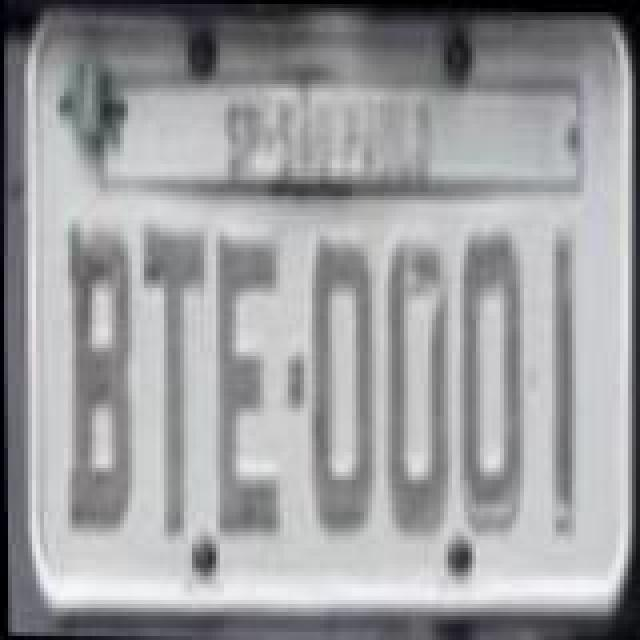1: (544, 222, 584, 534)
B: (58, 220, 138, 536)
E: (208, 228, 284, 540)
O: (380, 232, 460, 532), (454, 220, 530, 532), (300, 232, 376, 536)
T: (132, 224, 208, 544)
